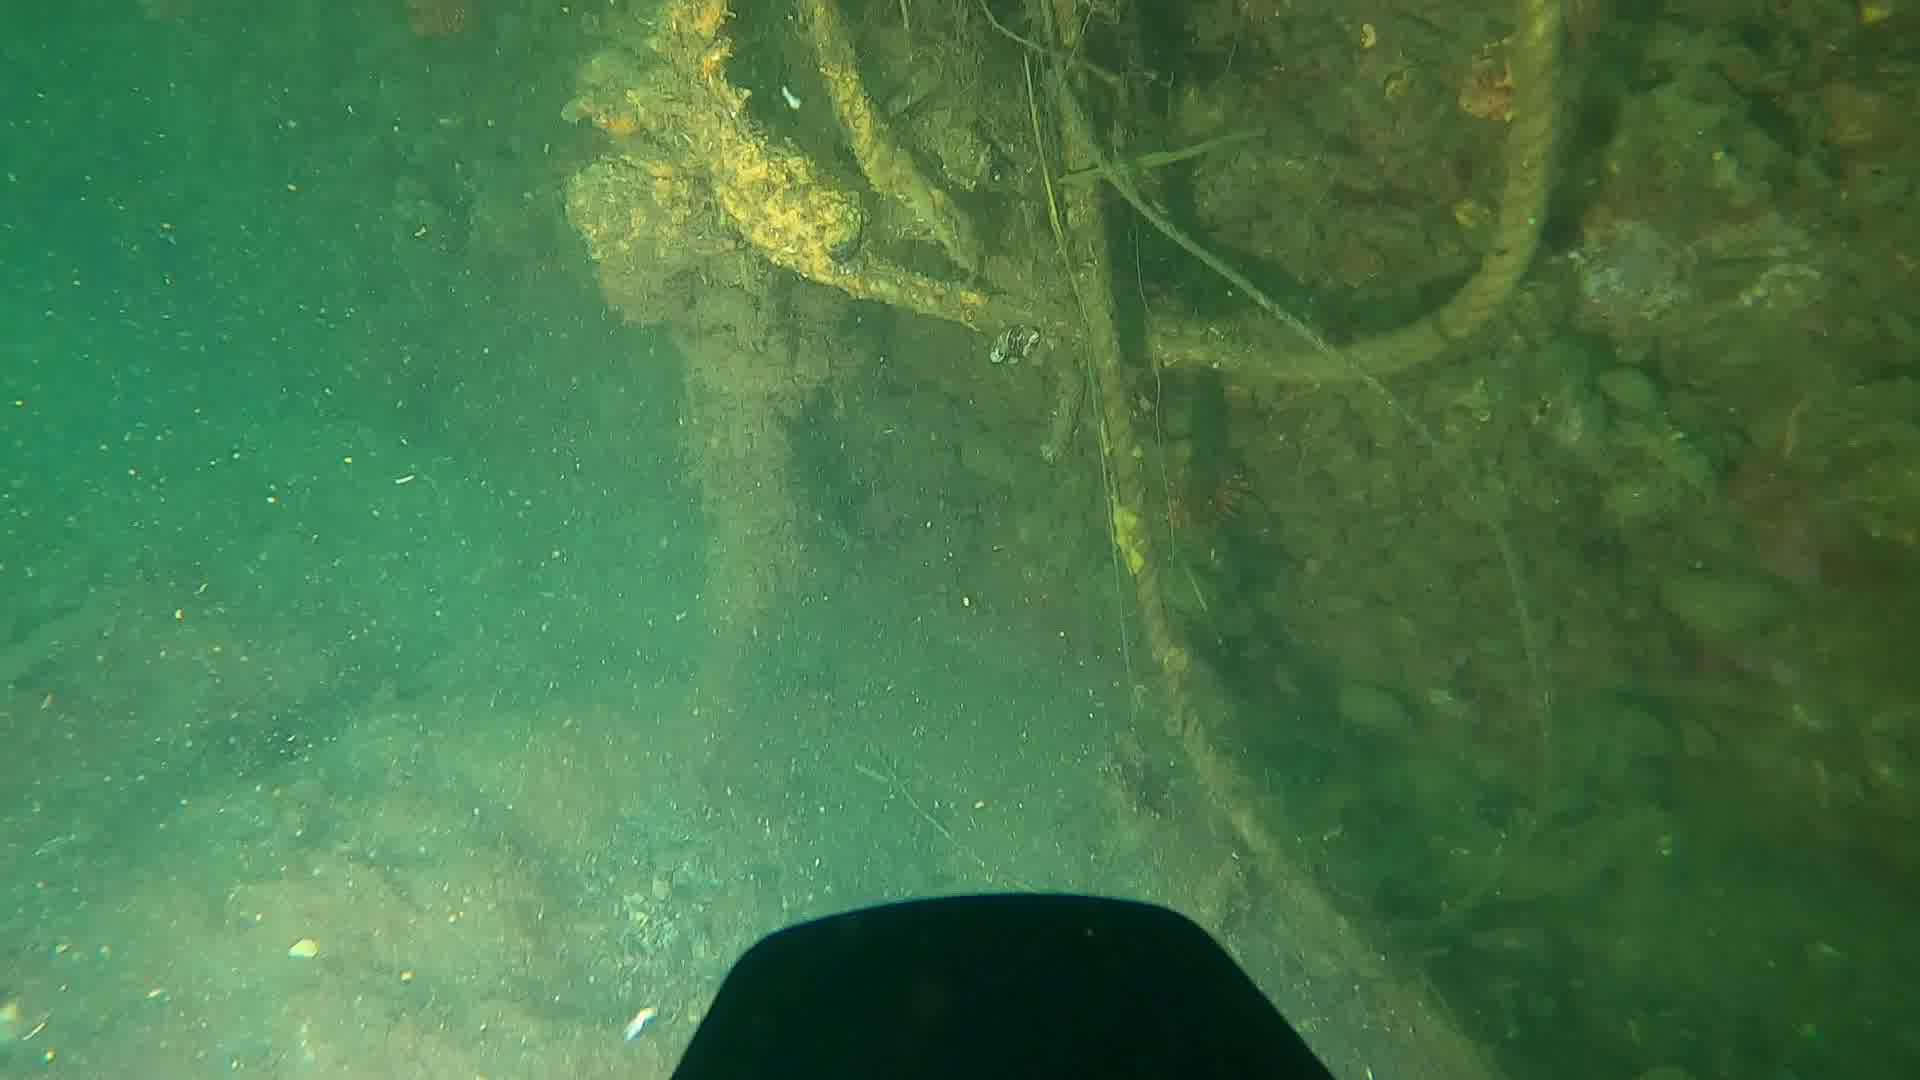bundle of ropes: (812, 0, 1555, 873)
